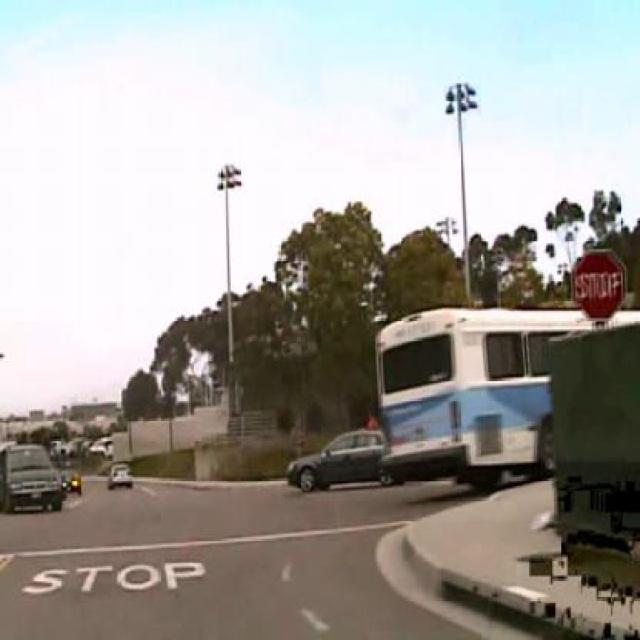stop: (574, 248, 627, 320)
